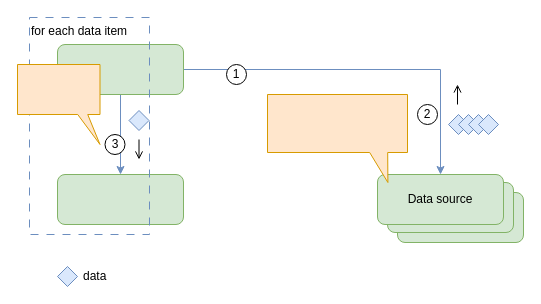
This 541x304 diagram has some shape labels left out. Here are the shapes that lost their labels. From the top down, the centre of each, then its label:
point (120, 69): PEP
point (58, 104): "authorize" request
point (337, 138): The PEP restricts data read from the application database or service
point (120, 199): PDP
